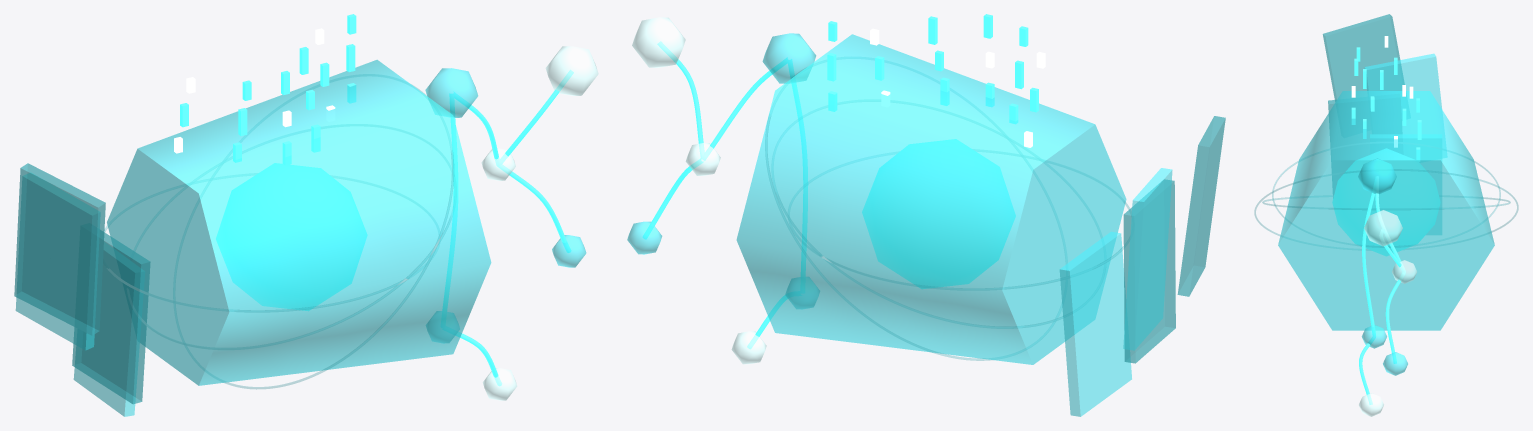
Rendered from ekg-prism.glb.
3 views of the same model, side by side, from view 1: azimuth 30°, elevation 25°; view 2: azimuth 150°, elevation 25°; view 3: azimuth 270°, elevation 25° (orthographic). The views are drawn at different scales.
Visible parts, largest first — view 1: PARSER_PRISM, ENTITY_CORE, DOCUMENT_03, DOCUMENT_02, DOCUMENT_01, DOCUMENT_00, ENTITY_03, ENTITY_00, RELATION_02, SEMANTIC_SCAN_RING_02, SEMANTIC_SCAN_RING_01, ENTITY_04 (+6 smaller); view 2: PARSER_PRISM, ENTITY_CORE, DOCUMENT_00, DOCUMENT_01, DOCUMENT_02, DOCUMENT_03, ENTITY_03, ENTITY_00, RELATION_02, SEMANTIC_SCAN_RING_02, ENTITY_05, ENTITY_01 (+6 smaller); view 3: PARSER_PRISM, ENTITY_CORE, DOCUMENT_03, DOCUMENT_02, DOCUMENT_01, DOCUMENT_00, ENTITY_03, ENTITY_00, RELATION_02, SEMANTIC_SCAN_RING_02, SEMANTIC_SCAN_RING_01, ENTITY_04 (+7 smaller).
Boxes of the visible parts, x1,y1,x2,y2 form: PARSER_PRISM: (107, 60, 491, 385); ENTITY_CORE: (216, 163, 367, 310); DOCUMENT_03: (14, 163, 105, 335); DOCUMENT_02: (15, 173, 99, 350); DOCUMENT_01: (72, 230, 150, 404); DOCUMENT_00: (73, 242, 144, 416); ENTITY_03: (545, 46, 598, 95); ENTITY_00: (425, 68, 477, 117); RELATION_02: (442, 93, 457, 314); SEMANTIC_SCAN_RING_02: (224, 84, 453, 389); SEMANTIC_SCAN_RING_01: (146, 215, 452, 349); ENTITY_04: (552, 235, 586, 267); PARSER_PRISM: (736, 34, 1126, 364); ENTITY_CORE: (862, 139, 1015, 288); DOCUMENT_00: (1059, 231, 1131, 416); DOCUMENT_01: (1123, 179, 1175, 363); DOCUMENT_02: (1123, 168, 1172, 350); DOCUMENT_03: (1177, 116, 1225, 296); ENTITY_03: (632, 17, 685, 67); ENTITY_00: (762, 33, 815, 83); RELATION_02: (788, 59, 807, 277); SEMANTIC_SCAN_RING_02: (765, 68, 990, 360); ENTITY_05: (731, 331, 766, 364); ENTITY_01: (686, 143, 720, 175); PARSER_PRISM: (1278, 91, 1494, 330); ENTITY_CORE: (1332, 148, 1440, 256); DOCUMENT_03: (1323, 14, 1404, 101); DOCUMENT_02: (1364, 53, 1446, 157); DOCUMENT_01: (1328, 94, 1402, 195); DOCUMENT_00: (1370, 135, 1441, 234); ENTITY_03: (1364, 210, 1402, 246); ENTITY_00: (1358, 158, 1396, 193); RELATION_02: (1362, 179, 1375, 336); SEMANTIC_SCAN_RING_02: (1254, 169, 1518, 235); SEMANTIC_SCAN_RING_01: (1262, 197, 1510, 209); ENTITY_04: (1383, 352, 1407, 375).
Bounding box in the file's own units: 3.12 × 2.05 × 1.76.
